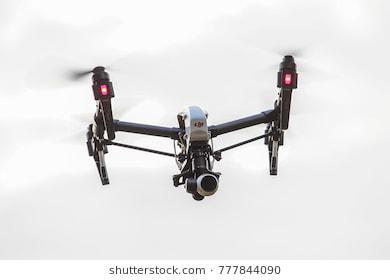drone: (60, 50, 301, 205)
